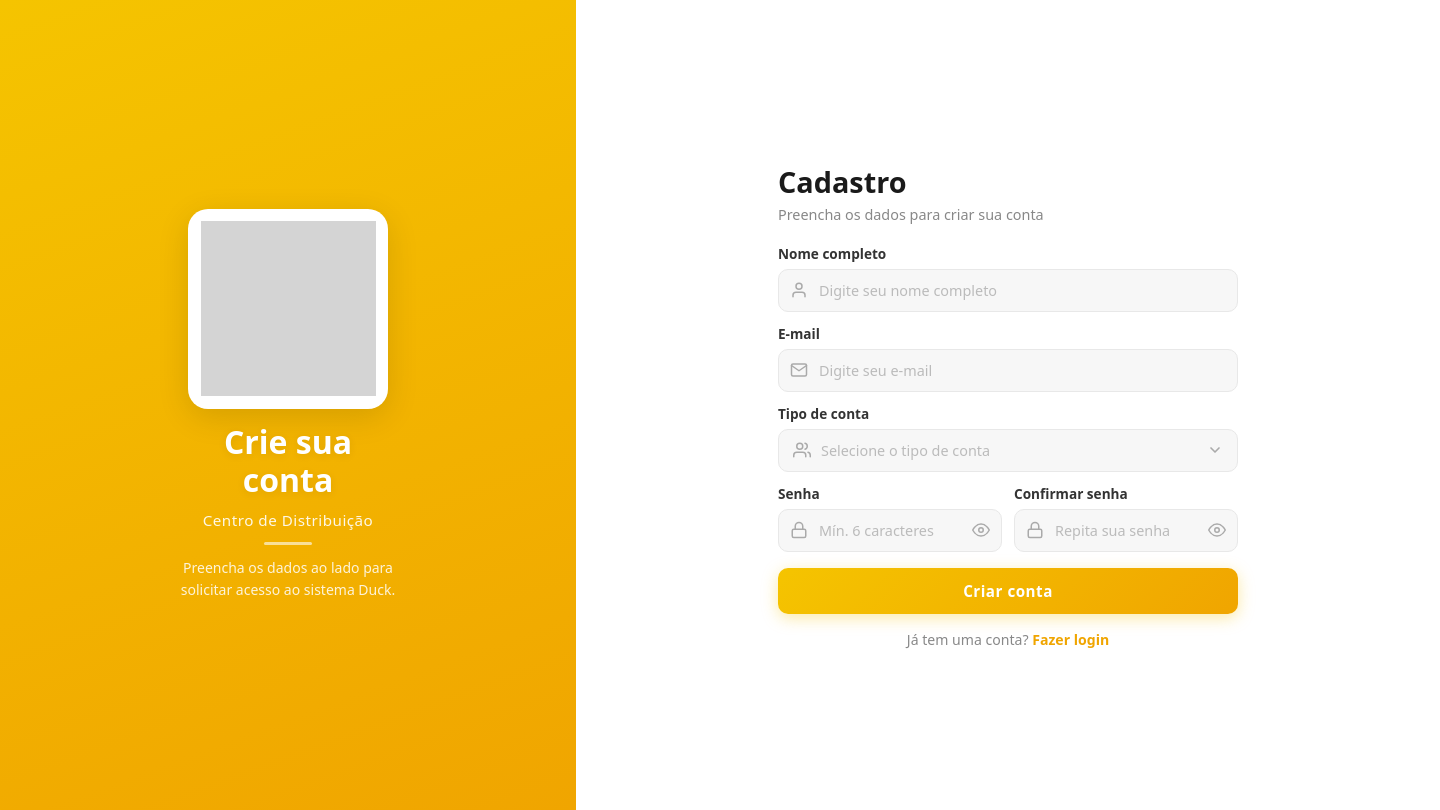
Scenario: Tela de Cadastro › exibe erro quando as senhas nao coincidem
Type "Joao Silva" into the field with placeholder "Digite seu nome completo" at (1008, 290), box 778,268 -> 1238,312
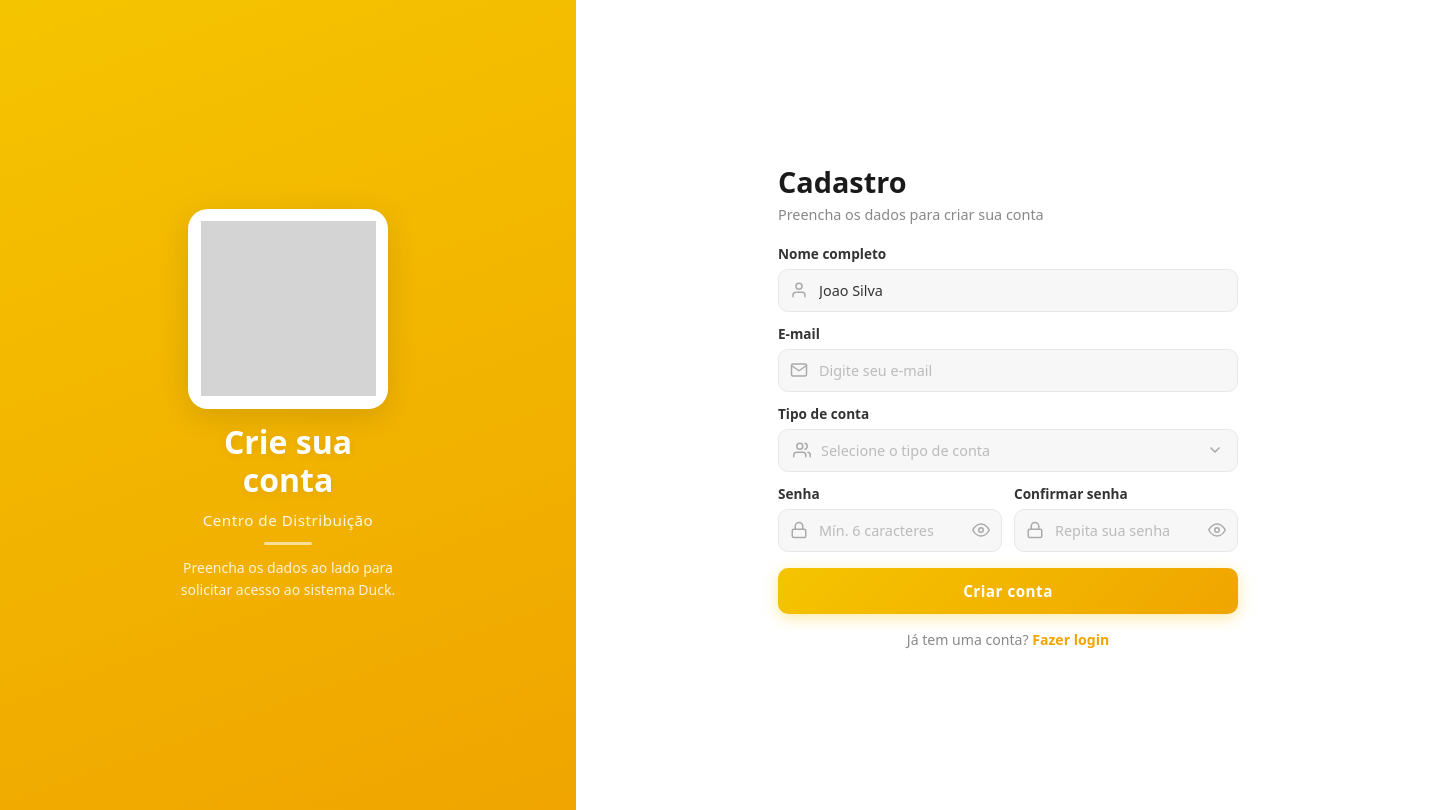
Type "joao@email.com" into the field with placeholder "Digite seu e-mail" at (1008, 370), box 778,348 -> 1238,392
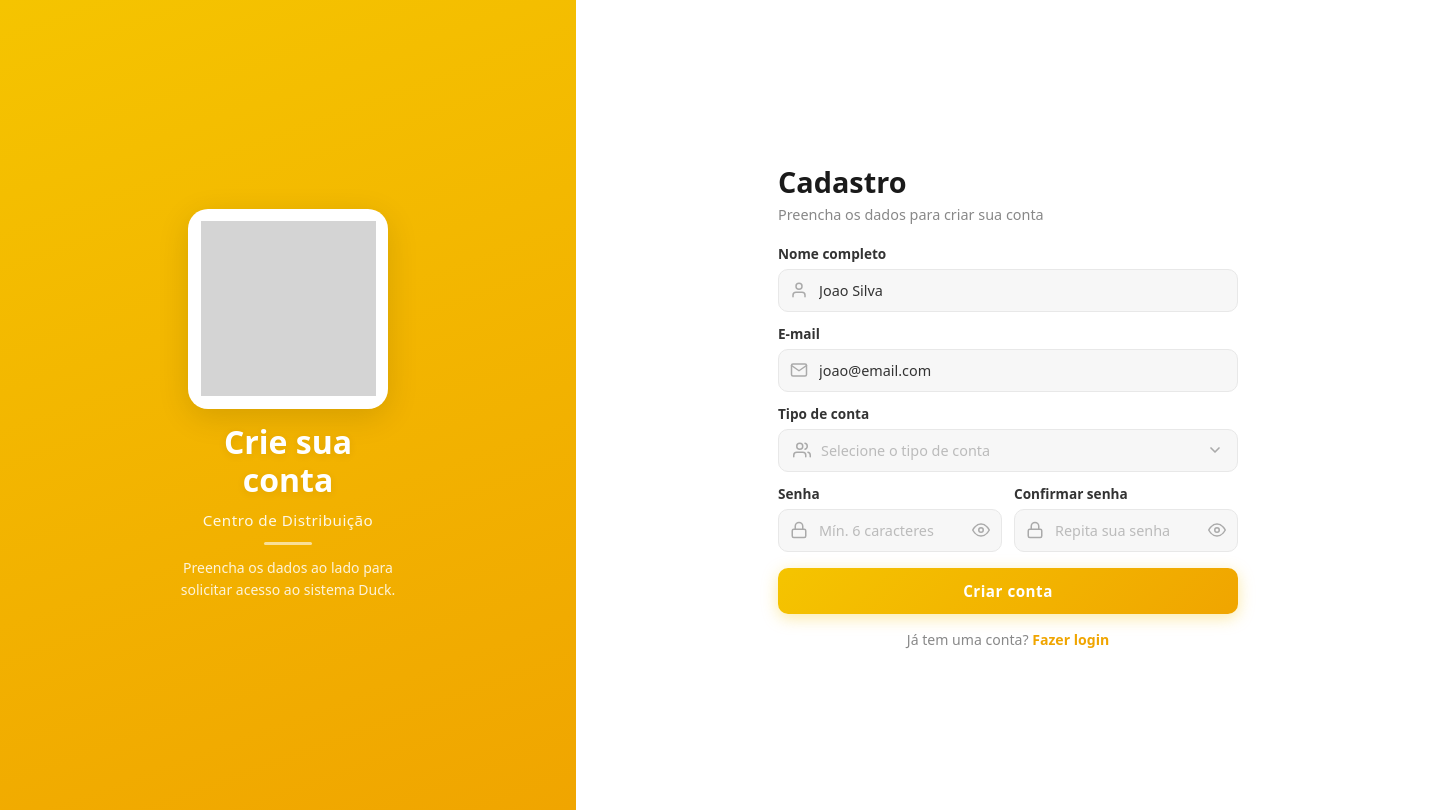
Type "senha123" into the password field with placeholder "Mín. 6 caracteres" at (890, 530), box 778,508 -> 1002,552
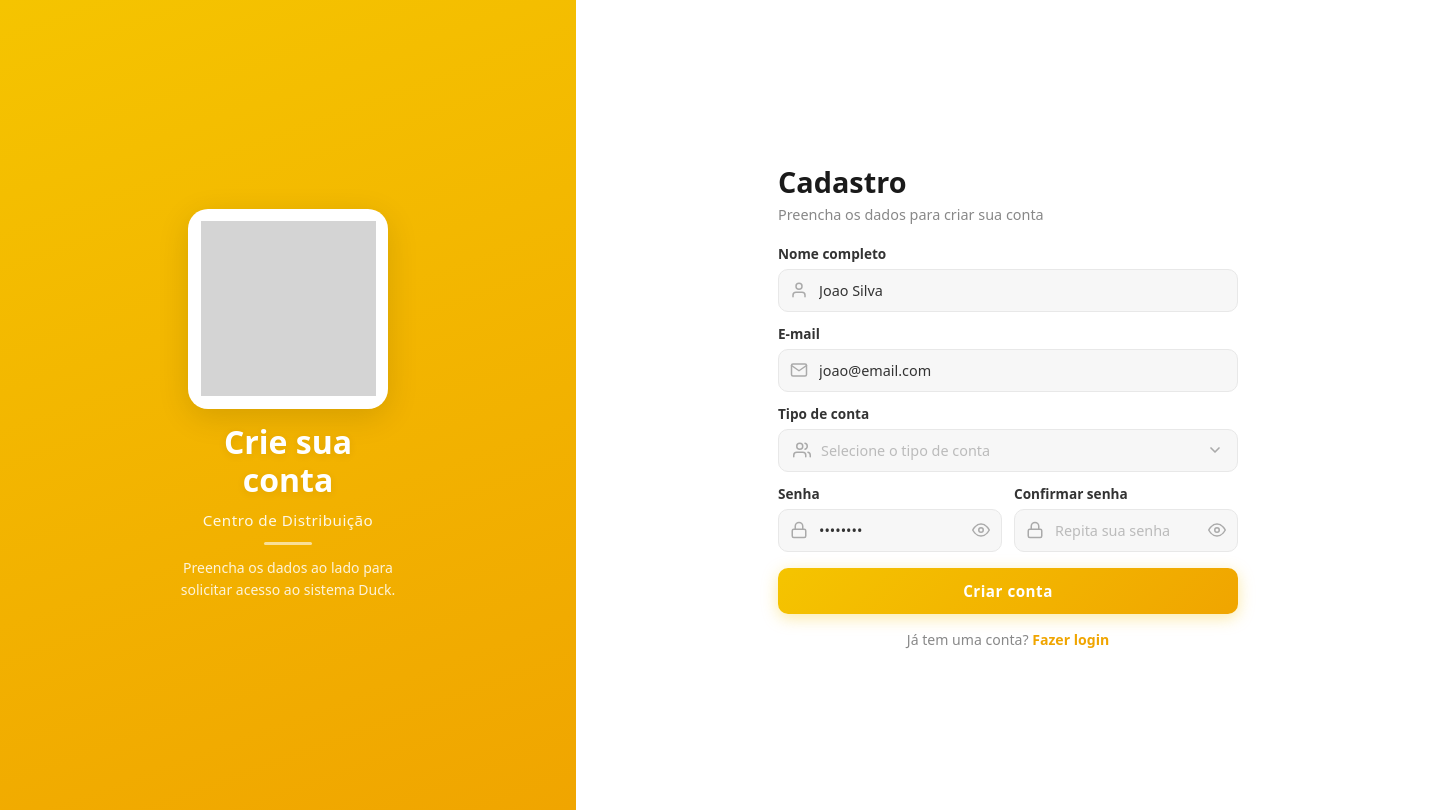
Type "senha456" into the password field with placeholder "Repita sua senha" at (1126, 530), box 1014,508 -> 1238,552
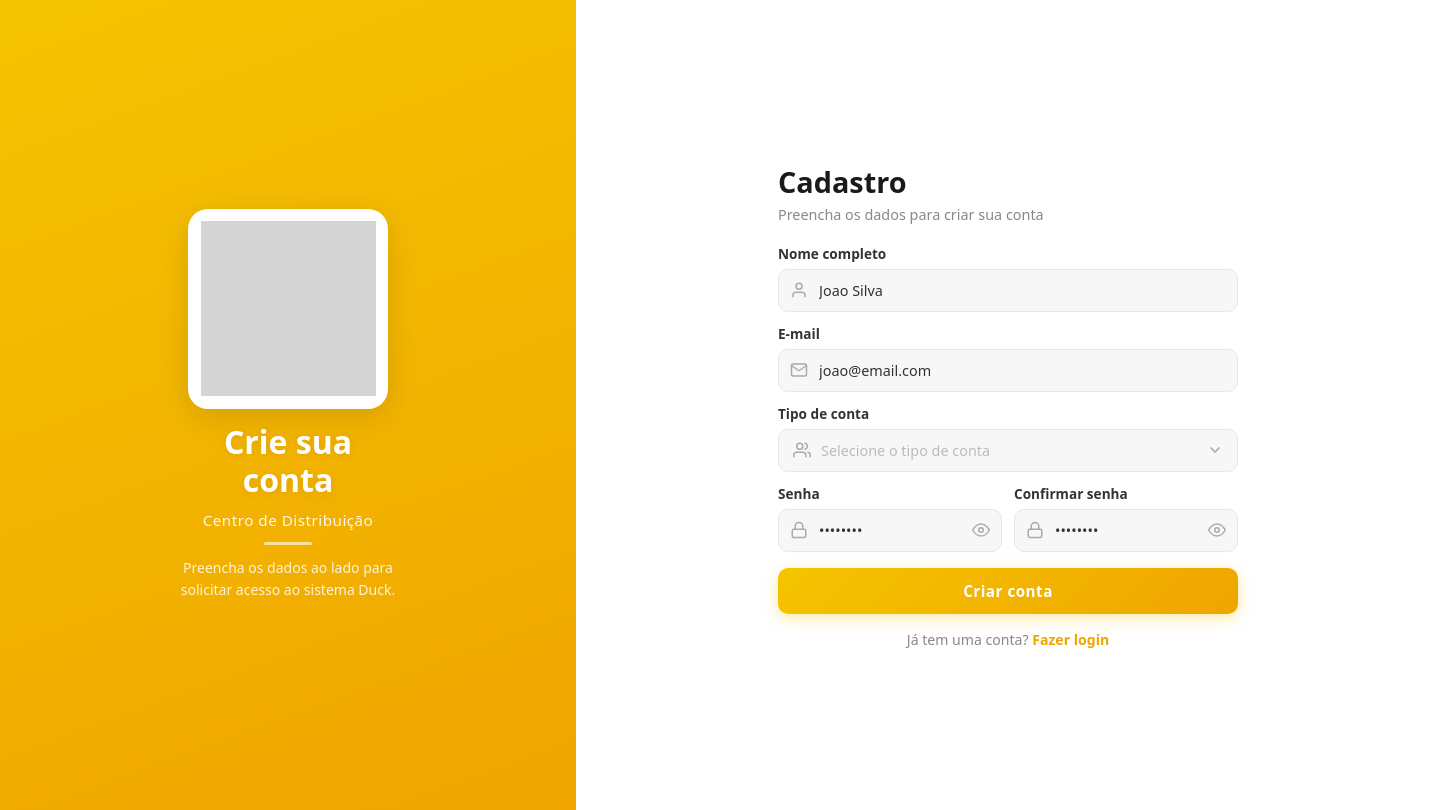
Click the button "Criar conta" at (1008, 590), box 778,568 -> 1238,614
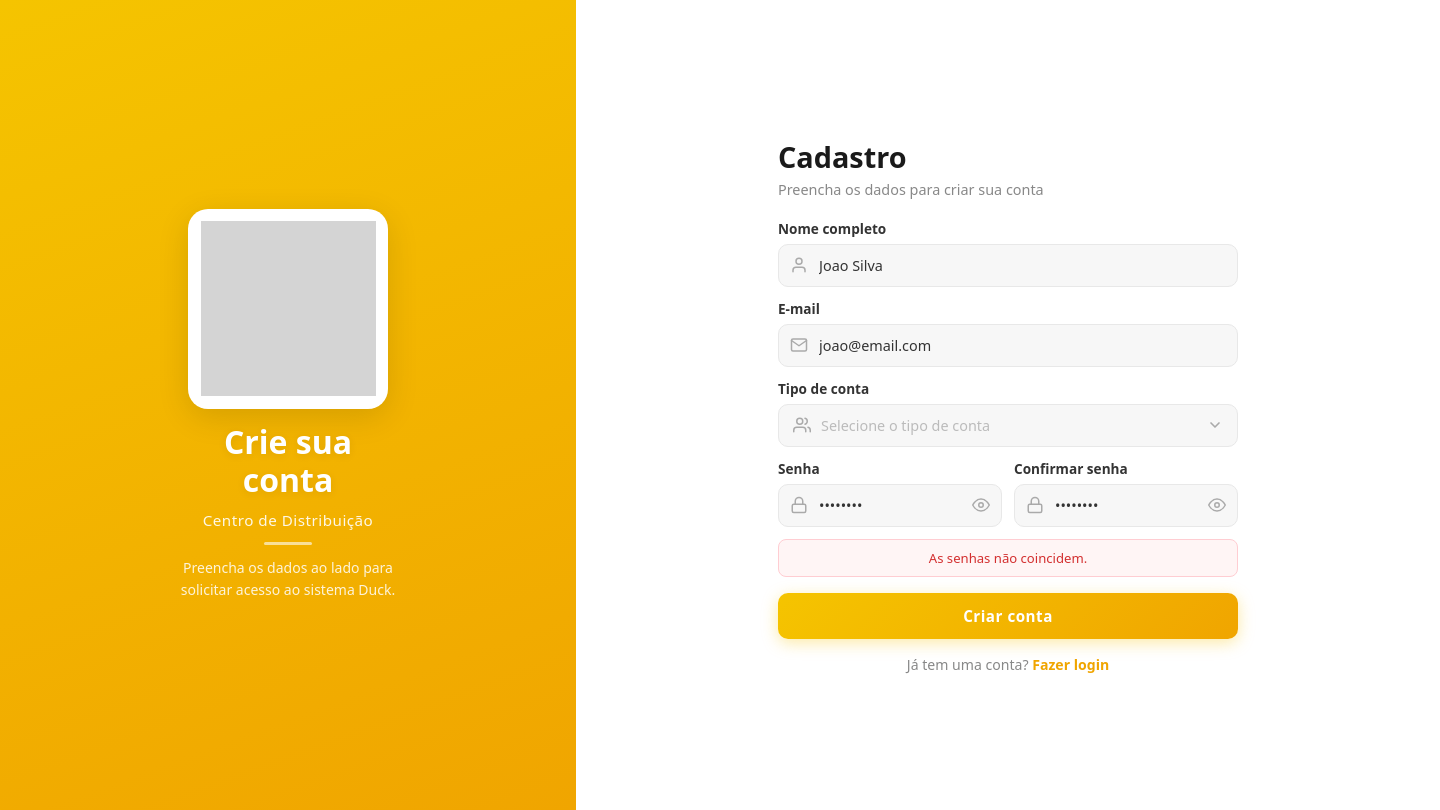
Expected: the text "As senhas não coincidem." is shown, 778,538 -> 1238,576
